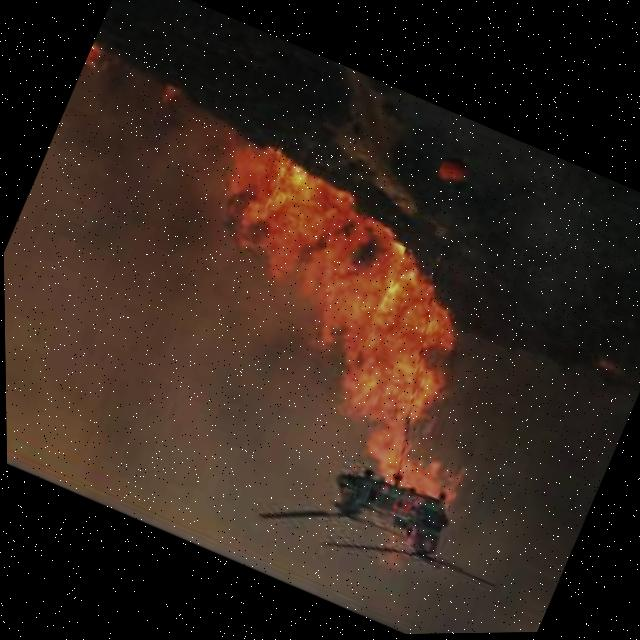Fire: (124, 124, 564, 524), (81, 35, 118, 80), (155, 82, 186, 114)
